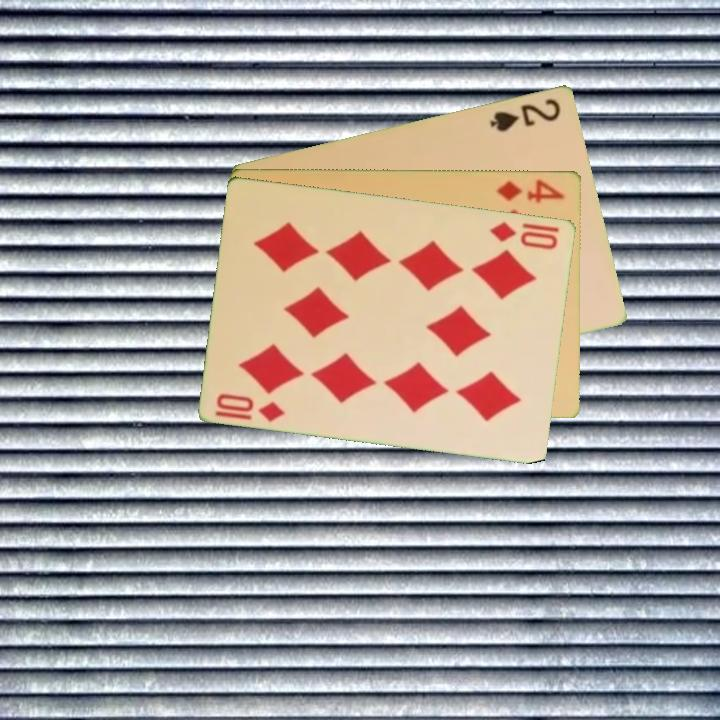10d: (212, 389, 288, 425), (487, 218, 561, 252)
2s: (486, 94, 564, 134)
4d: (493, 176, 568, 206)
